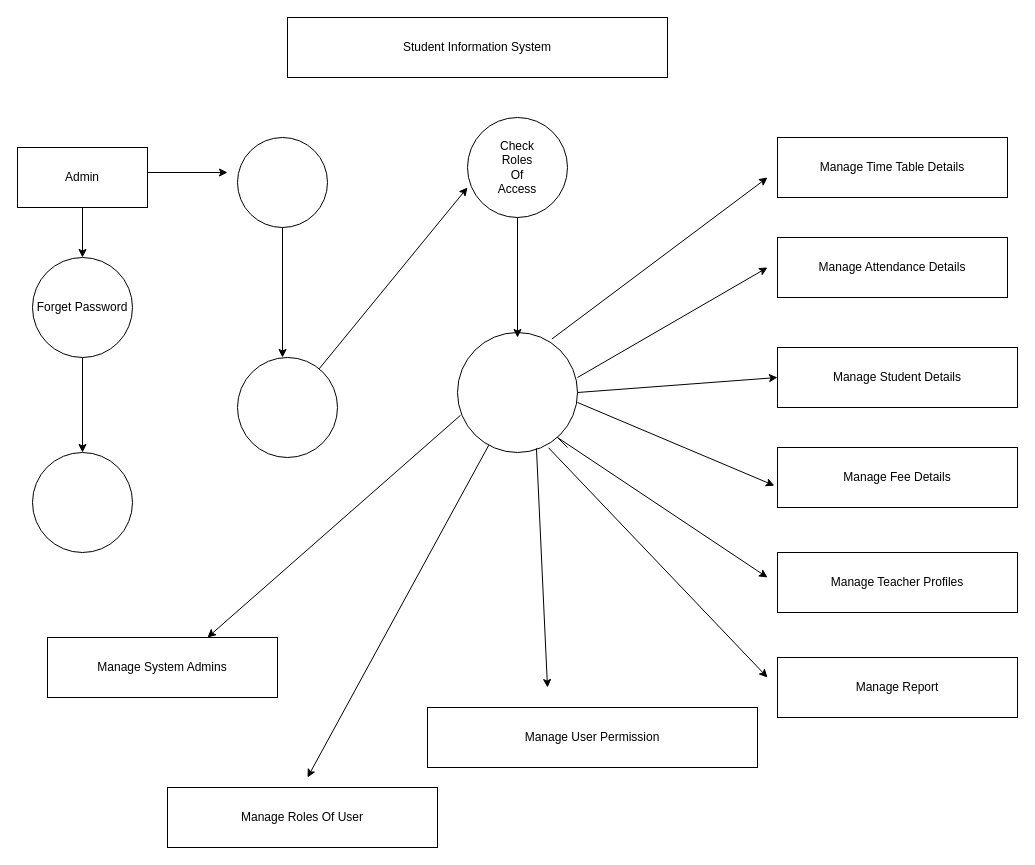
Some shapes in this 1035 by 865 pixel diagram are drawn without their labels. The shapes that lost their labels are listed below. From the top down, each one's box as (x1, y1, x2, y2) in pixels, then its label:
(236, 136, 328, 228): Login to system
(236, 356, 338, 458): Check Credentials
(456, 332, 578, 452): Manage Modules
(32, 452, 132, 552): Send Email to user
